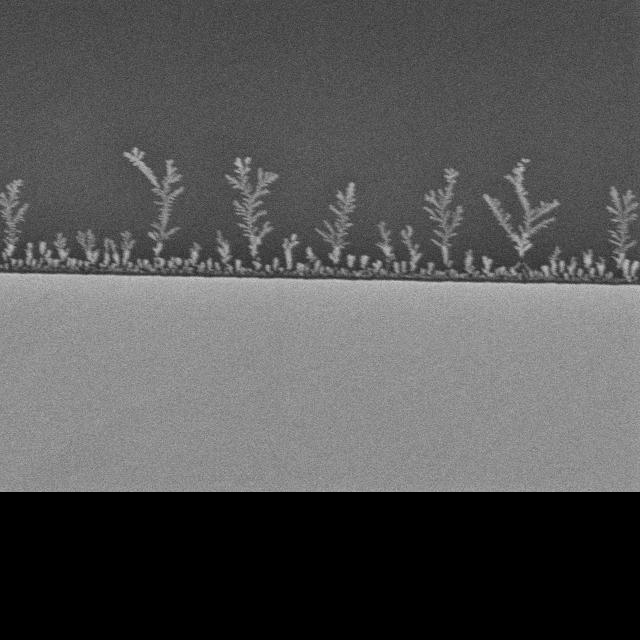Dendrite: (0, 148, 236, 274), (377, 168, 524, 280), (252, 182, 390, 276), (483, 160, 559, 280), (225, 157, 277, 269), (606, 186, 638, 282), (540, 247, 616, 281), (217, 231, 253, 274)
